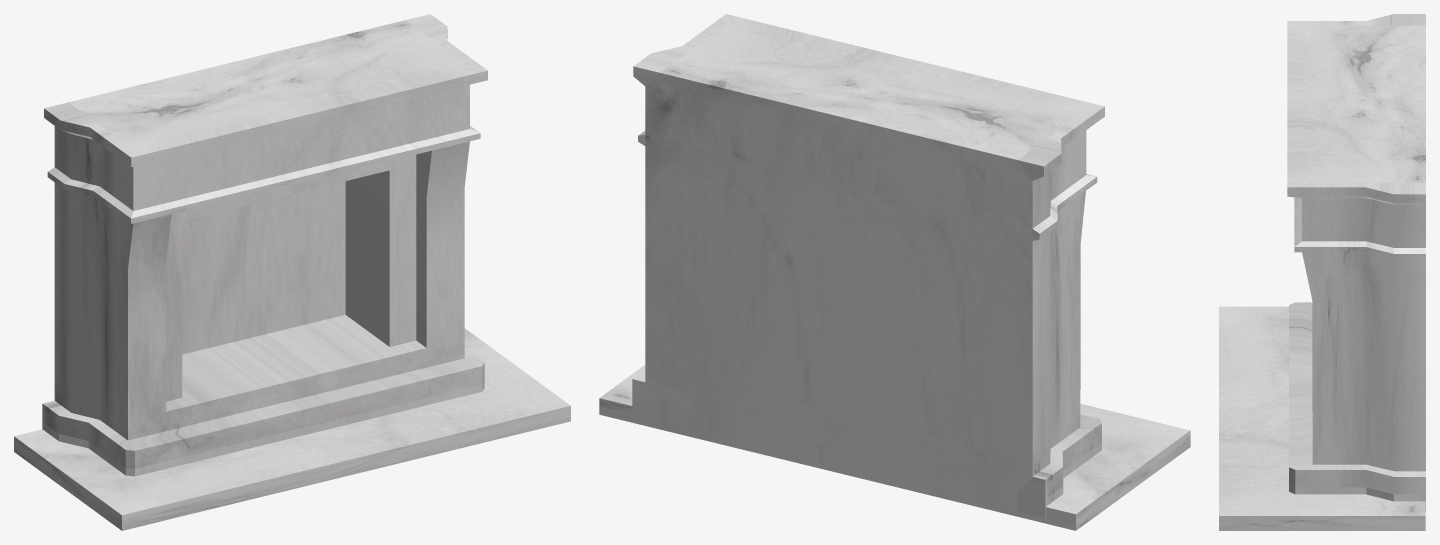
Rendered from Fireplace.fbx.
3 views of the same model, side by side, from view 1: azimuth 30°, elevation 25°; view 2: azimuth 150°, elevation 25°; view 3: azimuth 270°, elevation 25° (orthographic). The views are drawn at different scales.
Visible parts, largest first — view 1: Fireplace; view 2: Fireplace; view 3: Fireplace.
Part boxes in pixels (x1,y1,x2,y2): Fireplace: (14,14,570,530); Fireplace: (599,14,1190,530); Fireplace: (1219,14,1425,530).
Bounding box in the file's own units: 6 × 4.29 × 2.5.
Materials: 1 (1 with a texture image).
